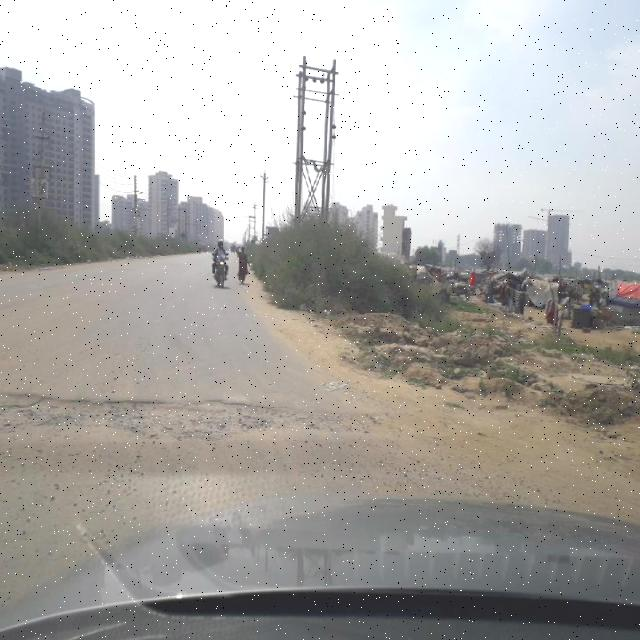D40: (4, 382, 423, 444)
